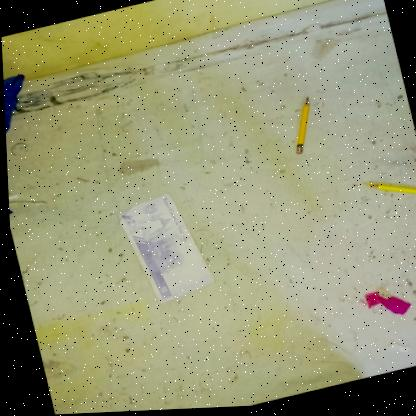ten-back-vef: (110, 189, 216, 309)
